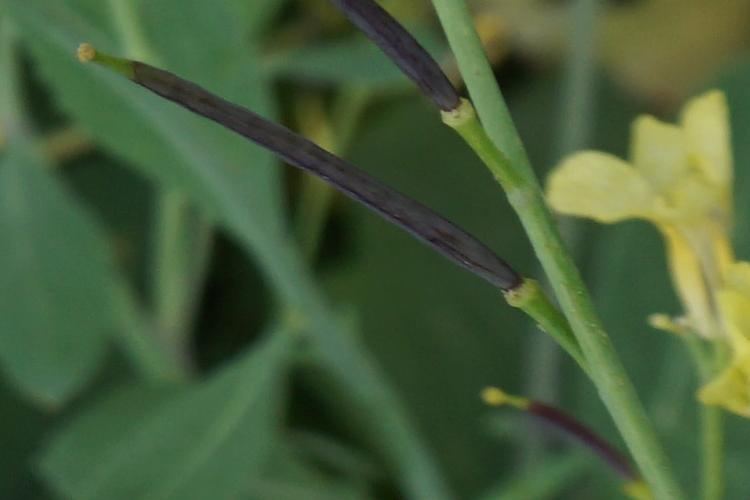pod: (69, 46, 549, 318), (466, 374, 666, 488), (348, 5, 475, 124)
yellow: (581, 92, 746, 373)
